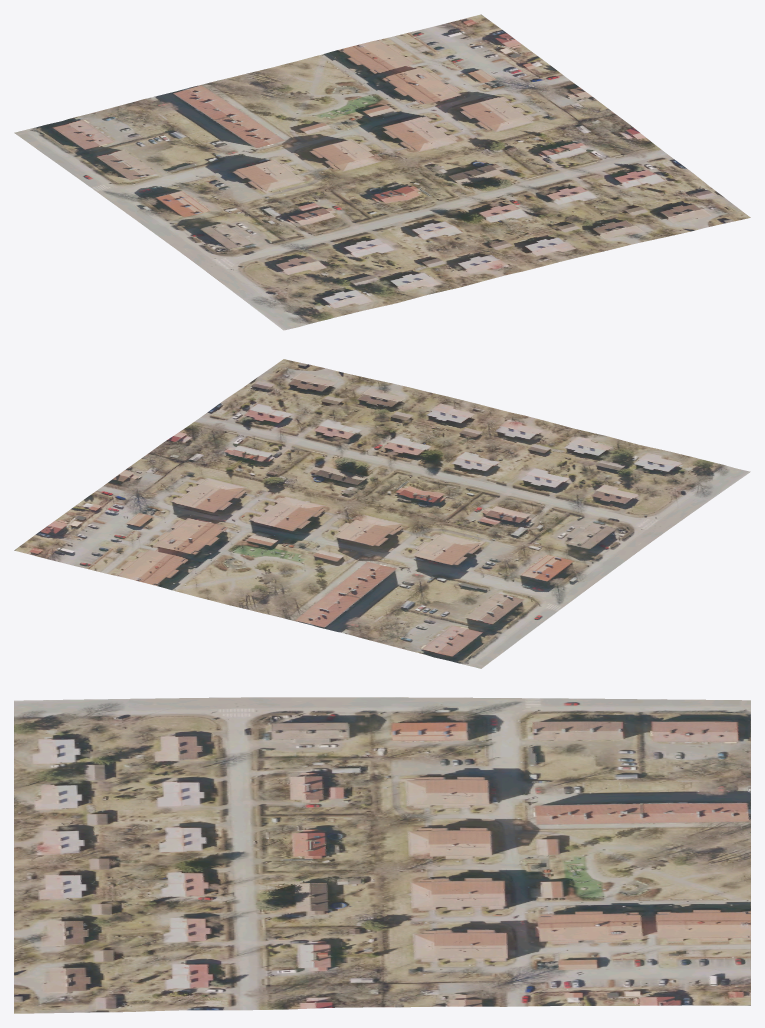
File: CM_Terrain_24489230_6818770.fbx
3 renders of one model, top to bottom at view 1: azimuth 30°, elevation 25°; view 2: azimuth 150°, elevation 25°; view 3: azimuth 270°, elevation 25°, orthographic. The views are drawn at different scales.
Visible parts, largest first — view 1: CM_Terrain_24489230_6818770_LOD0; view 2: CM_Terrain_24489230_6818770_LOD0; view 3: CM_Terrain_24489230_6818770_LOD0.
Part boxes in pixels (bbox=[...]): CM_Terrain_24489230_6818770_LOD0: bbox=[14, 14, 750, 330]; CM_Terrain_24489230_6818770_LOD0: bbox=[14, 359, 750, 668]; CM_Terrain_24489230_6818770_LOD0: bbox=[14, 697, 750, 1013].
Size of what is drawn, in the model's own units: 205 by 2.74 by 205.
